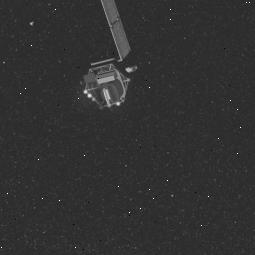earth_observation_sat_1: (76, 0, 142, 114)
